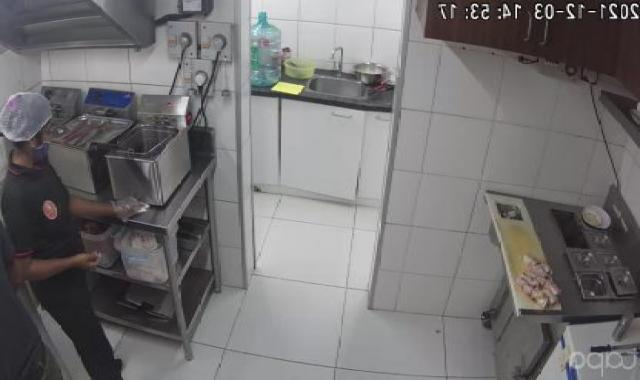hairnet: (0, 90, 62, 152)
